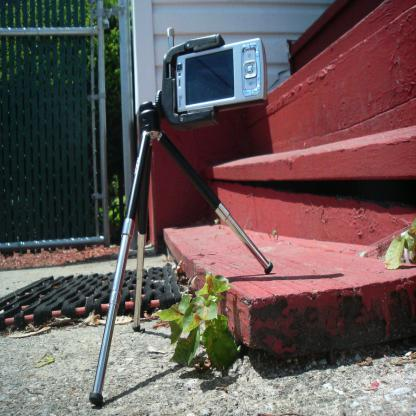Camera: (179, 36, 267, 112)
